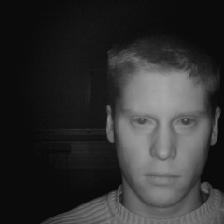normal: (96, 39, 220, 205)
